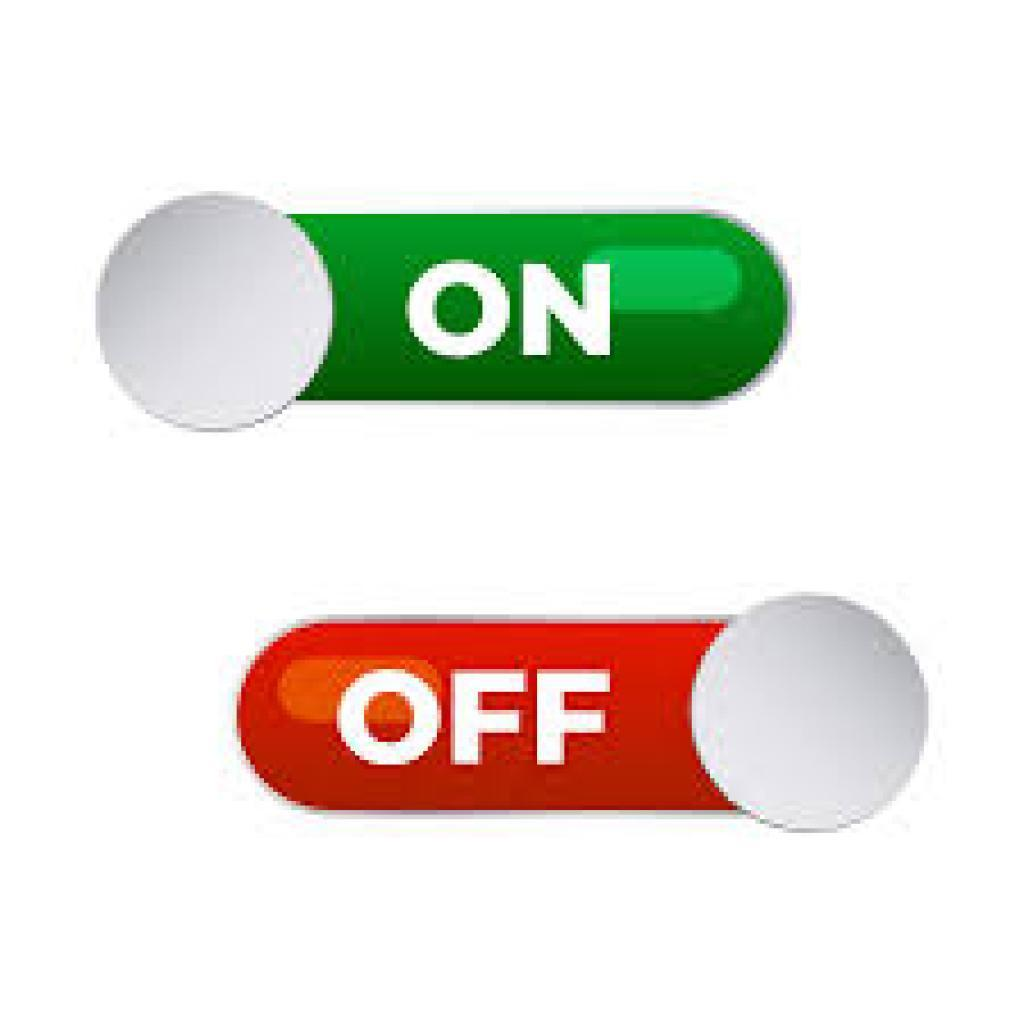switch: (95, 195, 792, 431), (237, 597, 926, 834)
